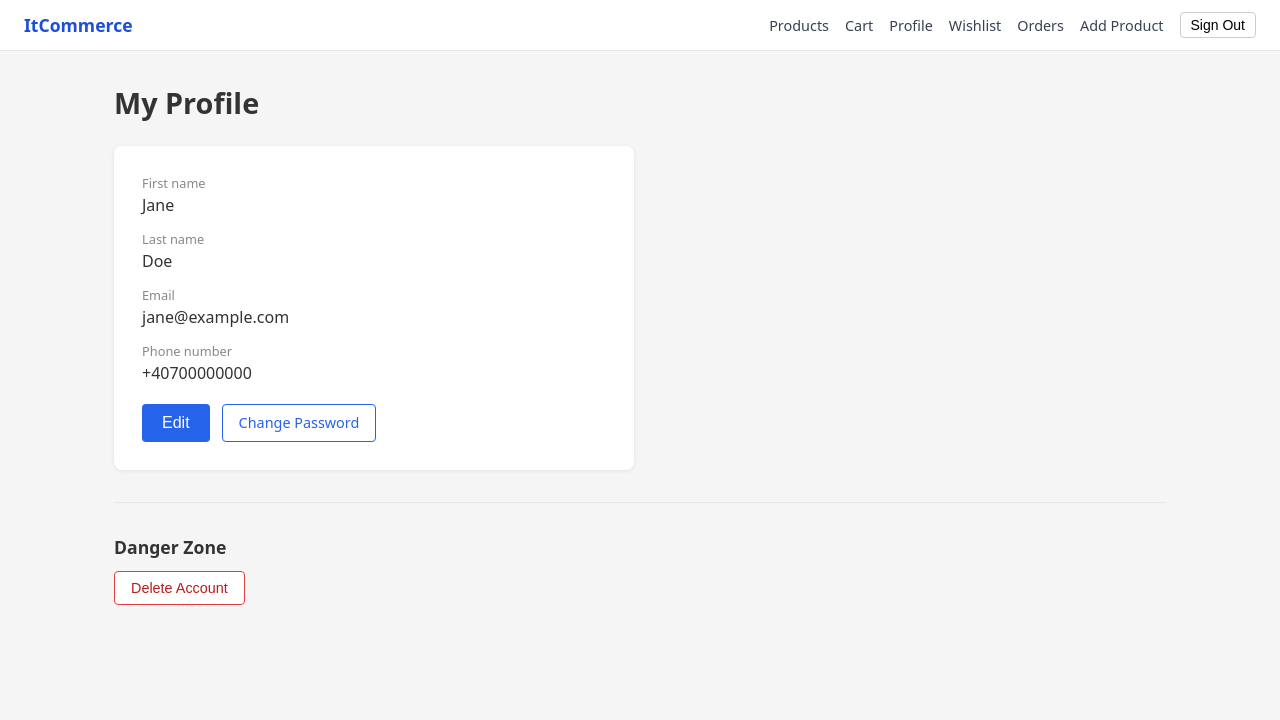
Test: Profile › edit profile › clicking Edit shows pre-populated form fields
Click the button "Edit".
click(176, 423)  # box [142,404,210,442]
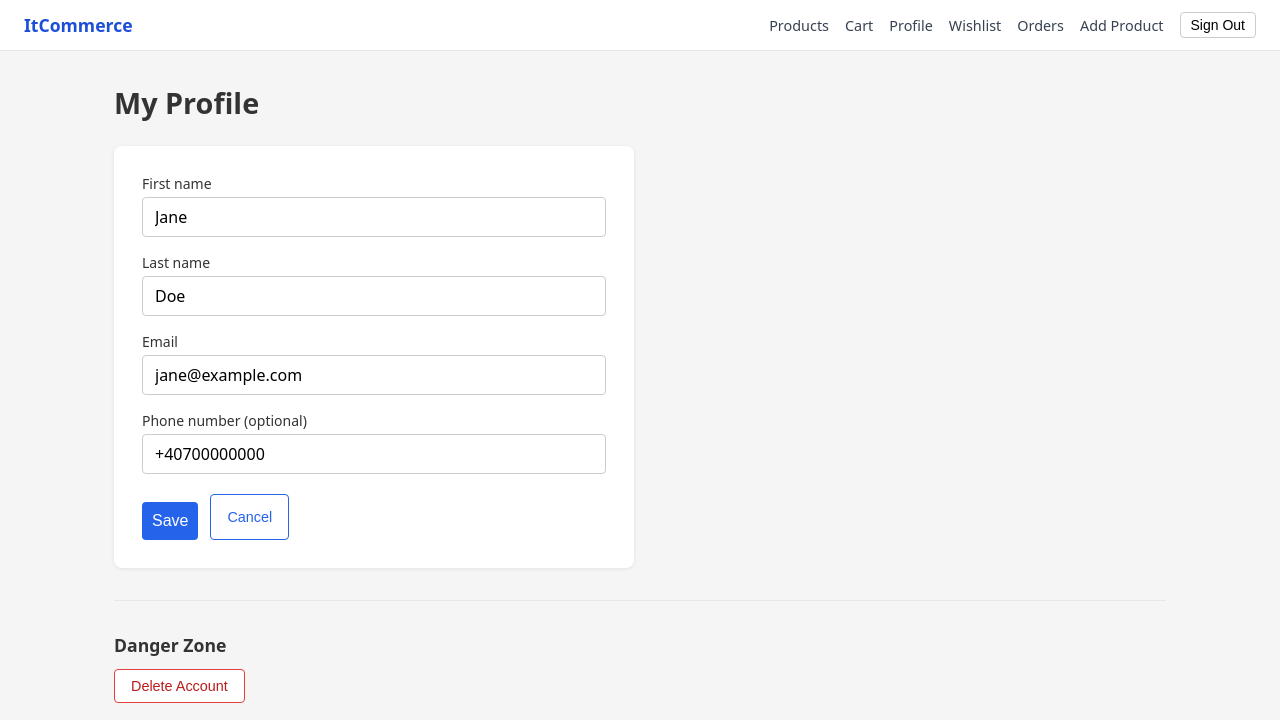
Check: the field labelled "First name" holds "Jane", box [142,197,606,237]
Check: the field labelled "Last name" holds "Doe", box [142,276,606,316]
Check: the field labelled "Email" holds "jane@example.com", box [142,355,606,395]
